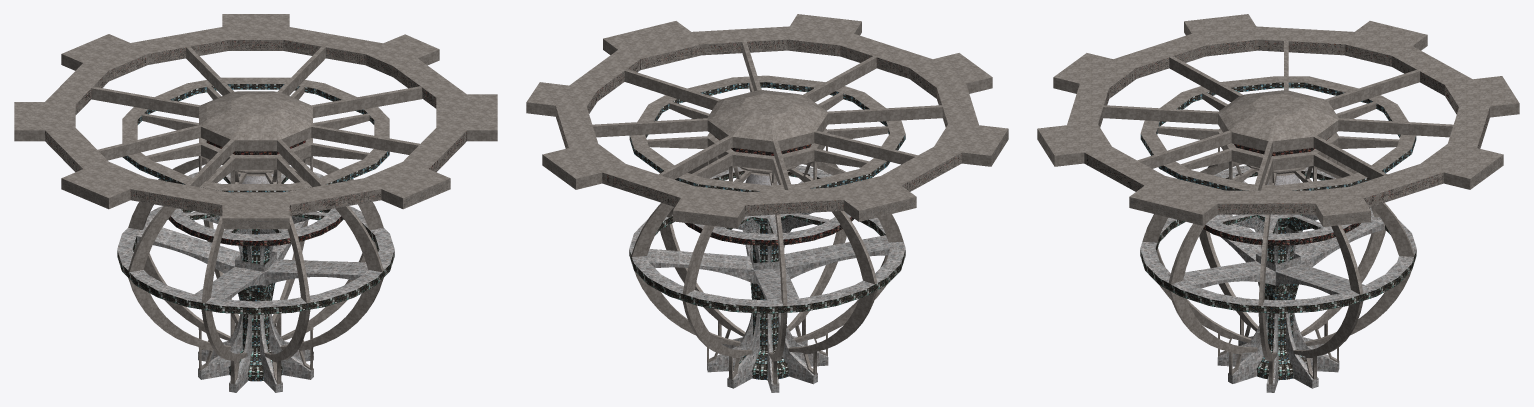
The picture shows the model from 3 angles, left to right: view 1: azimuth 30°, elevation 25°; view 2: azimuth 150°, elevation 25°; view 3: azimuth 270°, elevation 25°; orthographic projection.
Parts seen in each view (by area): view 1: group_2 (×5), Ringport (×6), group_3, Group_5 (×12), group_0 (×3), group_1 (×2); view 2: group_2 (×7), Ringport (×6), group_3, Group_5 (×12), group_0 (×3), group_1 (×2); view 3: group_2 (×6), Ringport (×8), group_3, Group_5 (×12), group_0 (×3), group_1 (×2), group_4.
Boxes of the visible parts, x1,y1,x2,y2 form: group_2 (×5): [14, 14, 497, 229]; Ringport (×6): [137, 86, 369, 392]; group_3: [91, 46, 422, 186]; Group_5 (×12): [128, 156, 383, 384]; group_0 (×3): [122, 77, 389, 192]; group_1 (×2): [117, 206, 394, 314]; group_2 (×7): [526, 14, 1008, 228]; Ringport (×6): [647, 83, 890, 392]; group_3: [592, 42, 942, 189]; Group_5 (×12): [631, 146, 903, 384]; group_0 (×3): [629, 75, 905, 192]; group_1 (×2): [629, 214, 905, 313]; group_2 (×6): [1037, 14, 1519, 226]; Ringport (×8): [1157, 92, 1398, 392]; group_3: [1103, 41, 1453, 190]; Group_5 (×12): [1142, 147, 1414, 384]; group_0 (×3): [1140, 76, 1416, 190]; group_1 (×2): [1140, 207, 1416, 313]; group_4: [1278, 218, 1311, 263].
Bounding box in the file's own units: 2930 × 2953 × 1776.
Materials: 8 (8 with a texture image).
